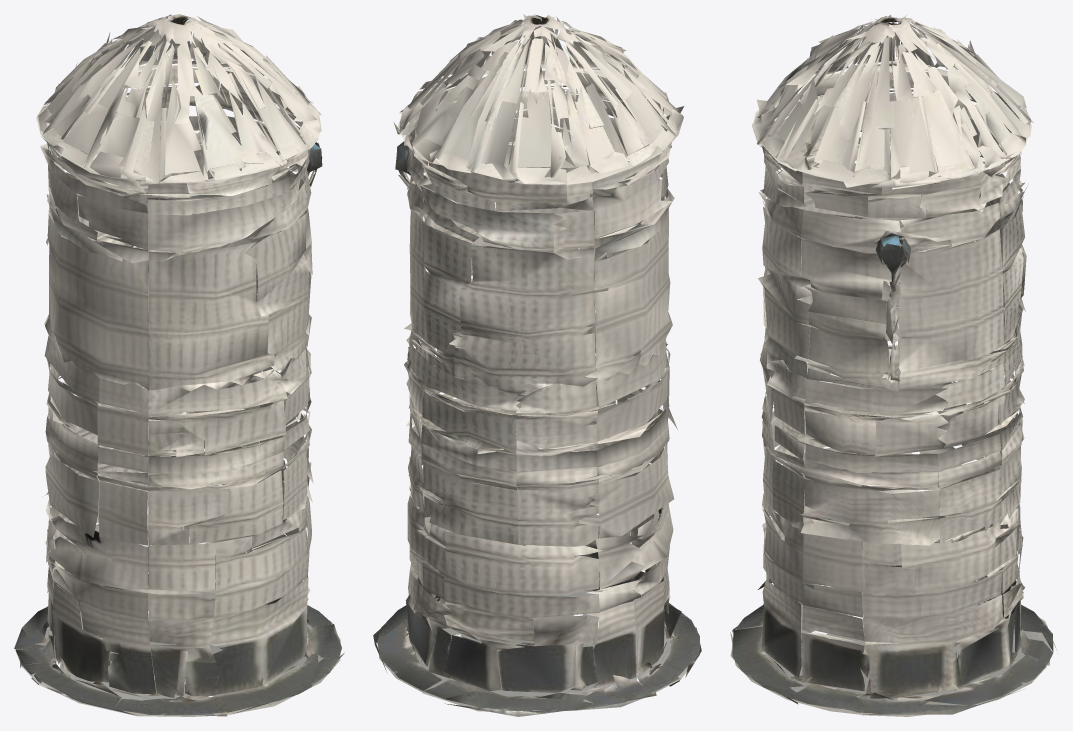
Rendered from silo.11db9e40855e.glb.
3 views of the same model, side by side, from view 1: azimuth 30°, elevation 25°; view 2: azimuth 150°, elevation 25°; view 3: azimuth 270°, elevation 25° (orthographic).
Visible parts, largest first — view 1: Mesh_0; view 2: Mesh_0; view 3: Mesh_0.
Boxes of the visible parts, <box> form: Mesh_0: <box>14,14,344,716</box>; Mesh_0: <box>373,14,701,716</box>; Mesh_0: <box>730,14,1056,716</box>.
Size of the model in its own units: 3.54 by 7.5 by 3.53.
Materials: 1 (1 with a texture image).
